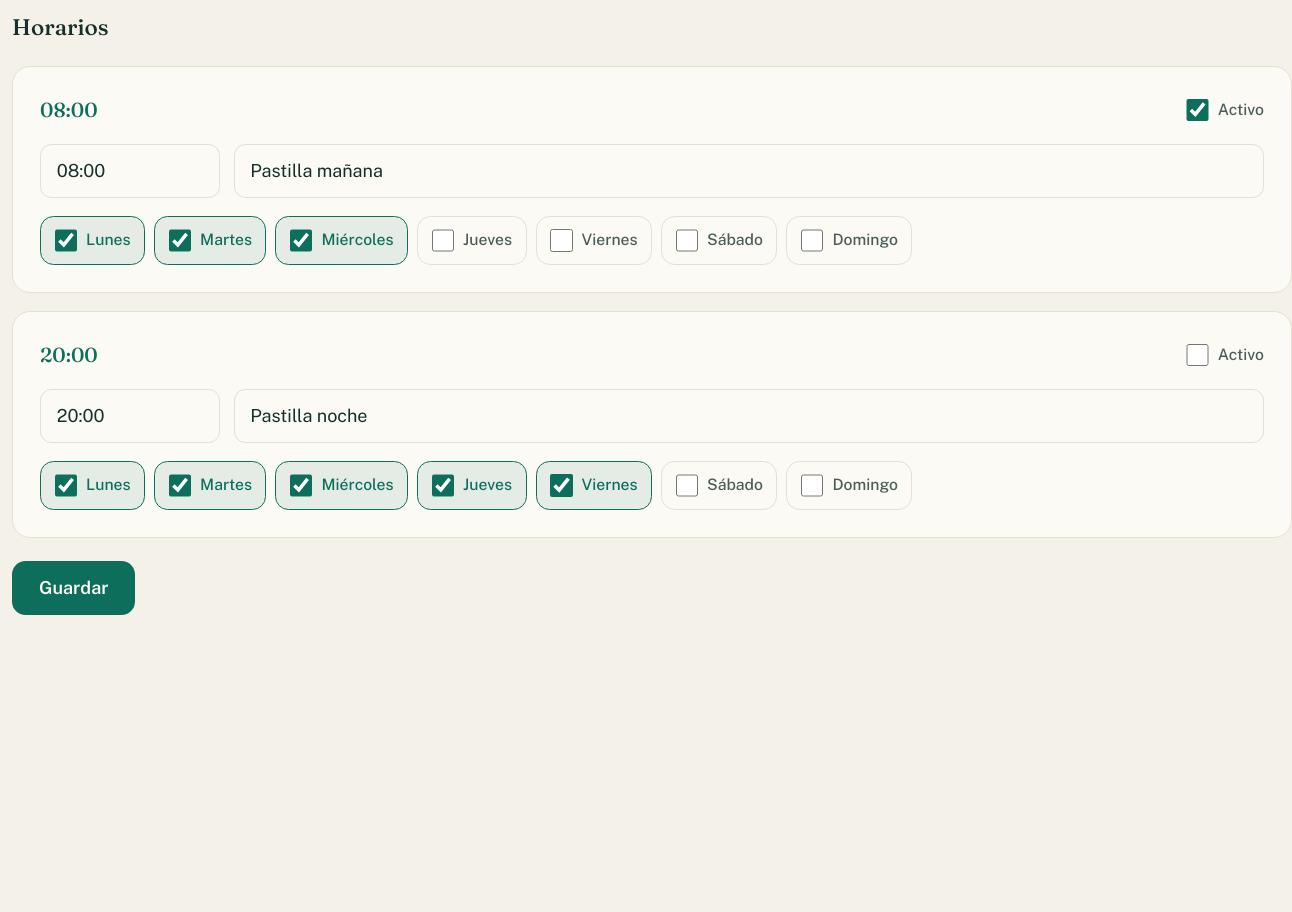
Scenario: ScheduleView › shows validation error when time is not HH:MM zero-padded (e.g. "8:00" is invalid)
Find first time input and clear+type invalid value
Replace the text in the field showing "Hora del horario 1" with "8:00" at (130, 170), box [40, 144, 220, 198]
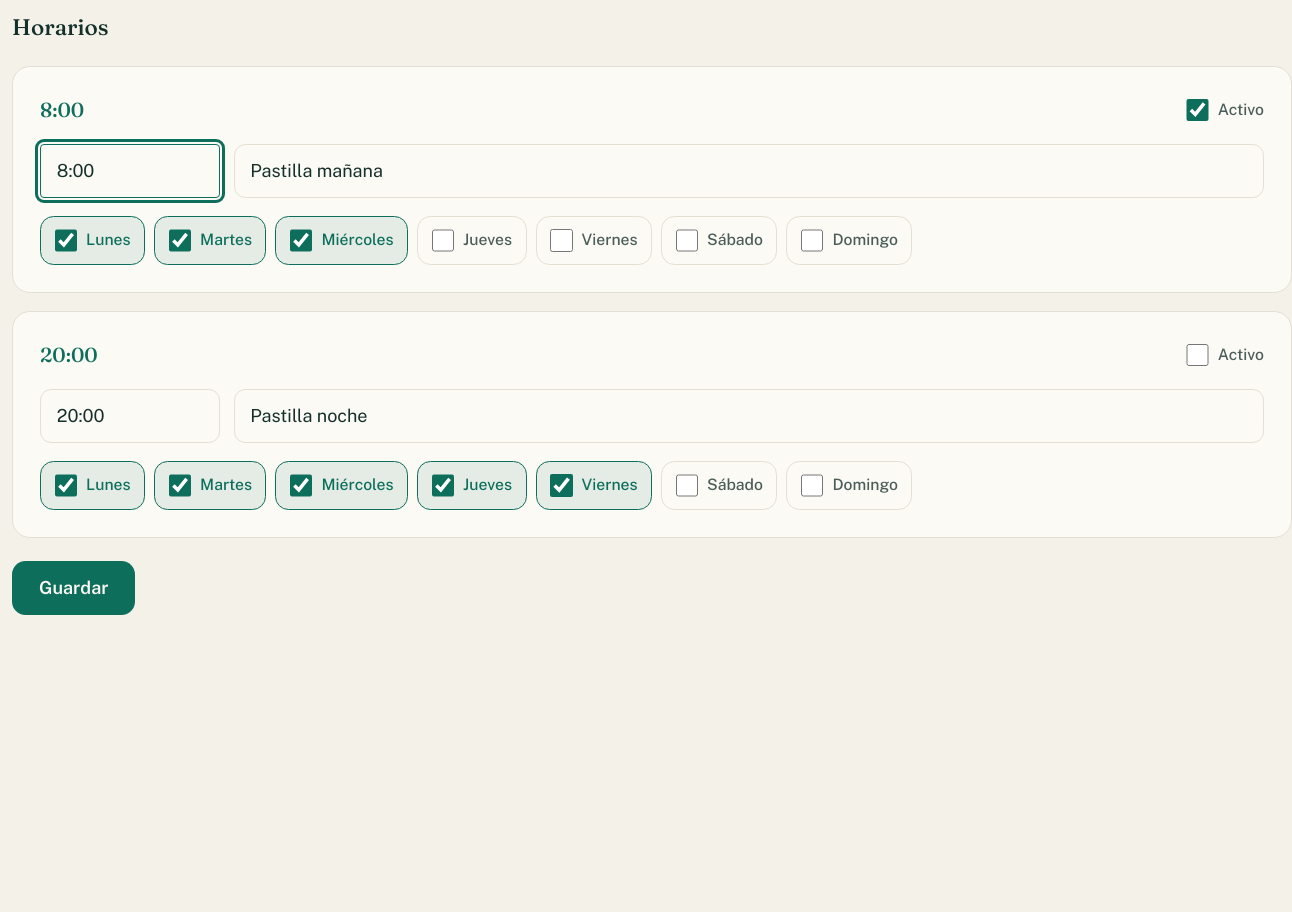
Find and click save button
Click the button "Guardar" at (74, 588), box [12, 560, 136, 614]
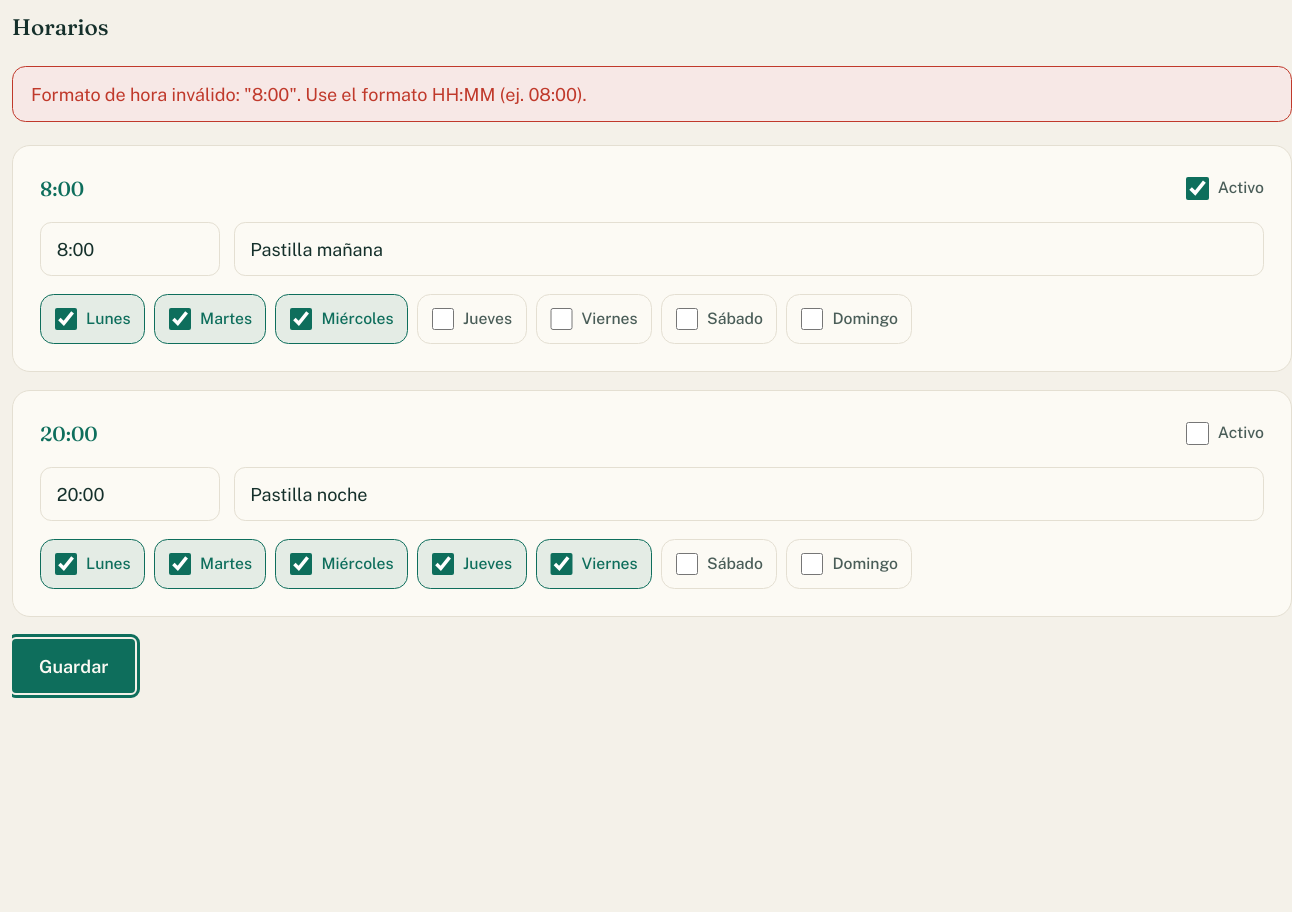
Expected: the text "Formato de hora inválido: \"8:00\". Use el formato HH:MM (ej. 08:00)." is shown, [12, 66, 1291, 122]
